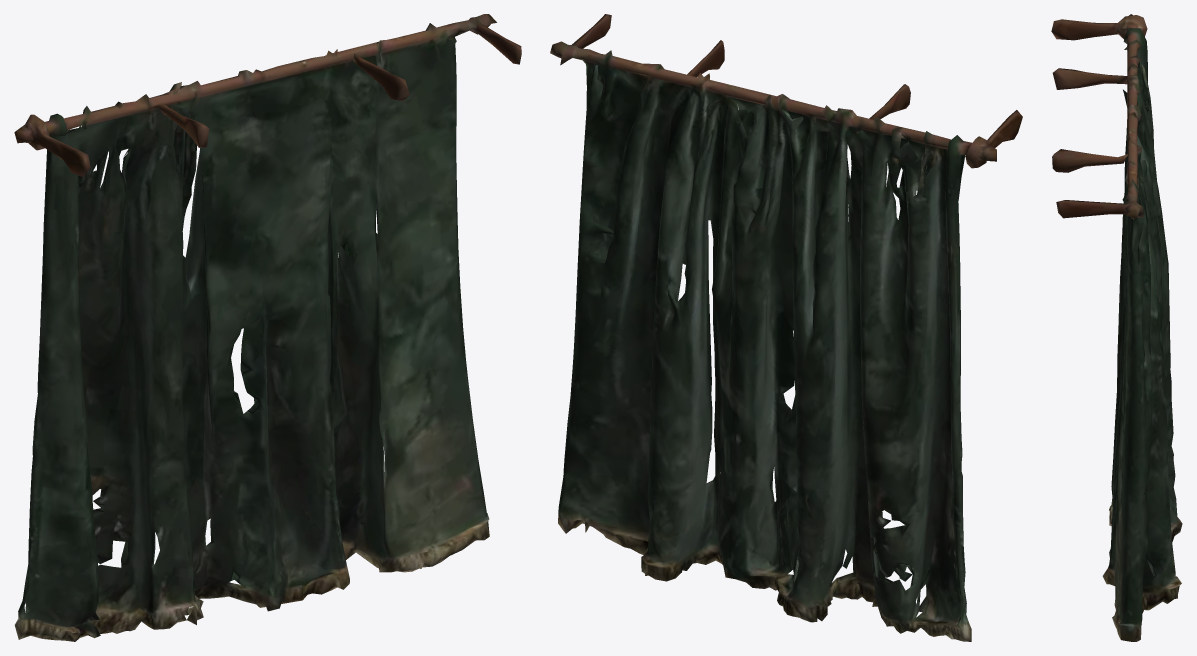
File: curtain.glb
3 views of the same model, side by side, from view 1: azimuth 30°, elevation 25°; view 2: azimuth 150°, elevation 25°; view 3: azimuth 270°, elevation 25° (orthographic). The views are drawn at different scales.
Visible parts, largest first — view 1: tripo_node_28afba55-a188-41e0-b875-6fbcc12cb430; view 2: tripo_node_28afba55-a188-41e0-b875-6fbcc12cb430; view 3: tripo_node_28afba55-a188-41e0-b875-6fbcc12cb430.
Boxes of the visible parts, <box> form: tripo_node_28afba55-a188-41e0-b875-6fbcc12cb430: <box>14,14,521,641</box>; tripo_node_28afba55-a188-41e0-b875-6fbcc12cb430: <box>550,14,1022,641</box>; tripo_node_28afba55-a188-41e0-b875-6fbcc12cb430: <box>1051,14,1182,641</box>.
Size of the model in its own units: 0.918 by 1 by 0.2593.
1 material, 1 textured.
